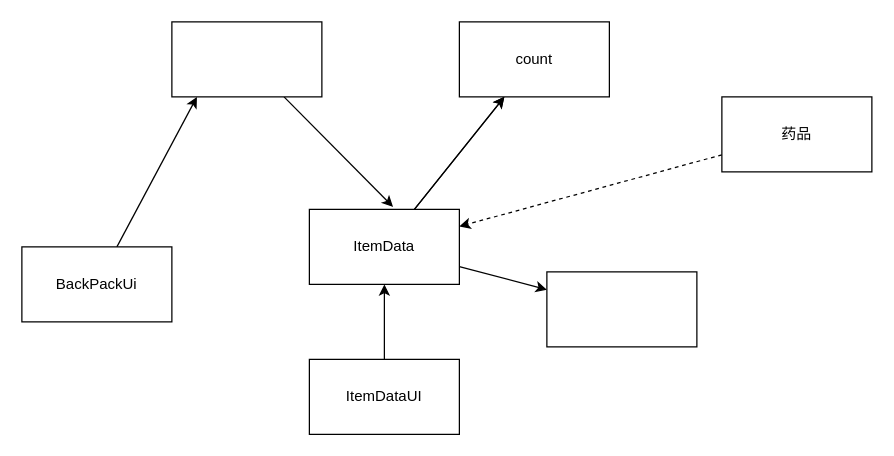
Image size: 894x456. Some labels were removed from this diagram. The shapes that lost their labels are listed below. From the top down, each one's box as (x1, y1, x2, y2) in pixels, then its label:
(171, 21, 322, 97): BackPackData
(546, 271, 697, 347): ItemMeta
